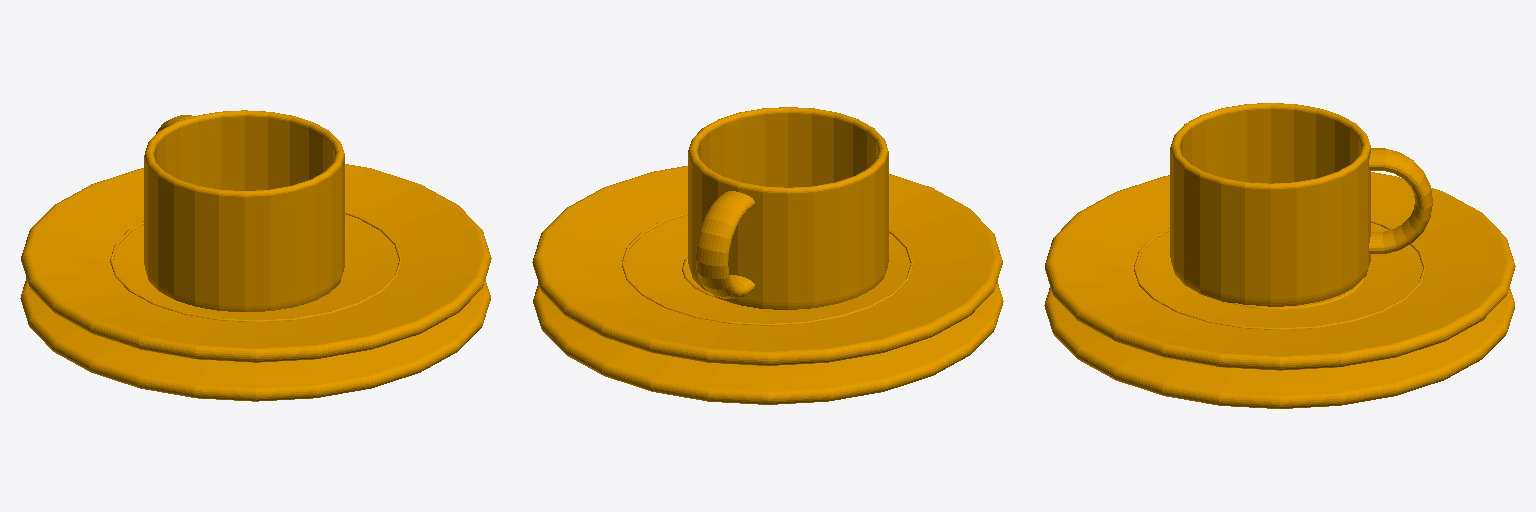
URDF robot description (my_object):
<?xml version="1.0" ?> 
<robot name="my_object">
  <link name="base_link">
  <inertial>
    <mass value="0.01" />
    <origin xyz="0 0 0.0" />
    <inertia  ixx="1.0" ixy="0.0"  ixz="0.0"  iyy="1.0"  iyz="0.0"  izz="1.0" />
  </inertial>
  <visual>
   <origin xyz="0 0 0.0" rpy="0 0 0" />
   <geometry>
     <mesh filename="package://cob_surface_classification/models/media/models/cup_and_saucer.dae" scale="0.2 0.2 0.2" />
   </geometry>
  </visual>
  <collision>
   <origin xyz="0 0 0.0" rpy="0 0 0" />
   <!--geometry>
     <mesh filename="package://cob_surface_classification/models/media/models/cup_and_saucer.dae" scale="0.2 0.2 0.2">
   </geometry-->
  </collision>     
  </link>

<gazebo>
	<static>true</static>
</gazebo>
</robot>

--- Render facts (derived) ---
3 views of the same robot in one strip: view 1: azimuth 30°, elevation 25°; view 2: azimuth 150°, elevation 25°; view 3: azimuth 270°, elevation 25° (orthographic).
Robot: my_object — 1 links, 0 joints (none); root link base_link; default pose: all joints at 0.
Links seen in each view (by area): view 1: base_link; view 2: base_link; view 3: base_link.
Link boxes in pixels (x1,y1,x2,y2): base_link: (20, 110, 491, 401); base_link: (532, 107, 1003, 404); base_link: (1044, 103, 1515, 408).
Bounding box of the posed robot: 0.4553 × 0.4547 × 0.1714 m (x, y, z).
1 mesh visuals loaded from 1 distinct referenced files (1 Collada DAE).